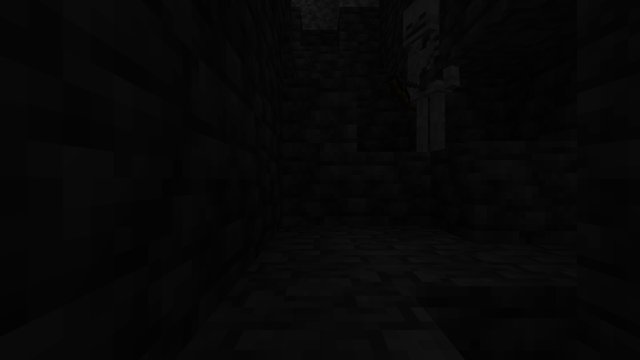squelettes: (401, 5, 464, 153)
